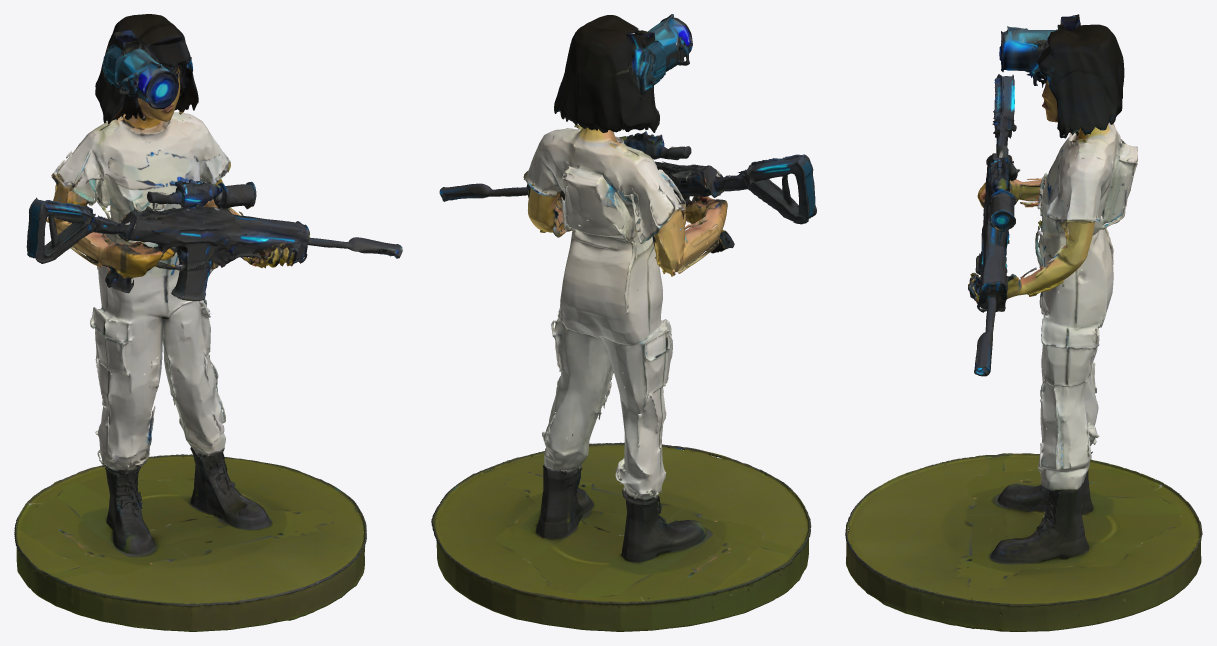
The model's file is Future_Sentinel.glb.
3 renders of one model, left to right at view 1: azimuth 30°, elevation 25°; view 2: azimuth 150°, elevation 25°; view 3: azimuth 270°, elevation 25°, orthographic. The views are drawn at different scales.
Bounding box in the file's own units: 1.44 × 2 × 1.24.
1 material, 1 textured.
